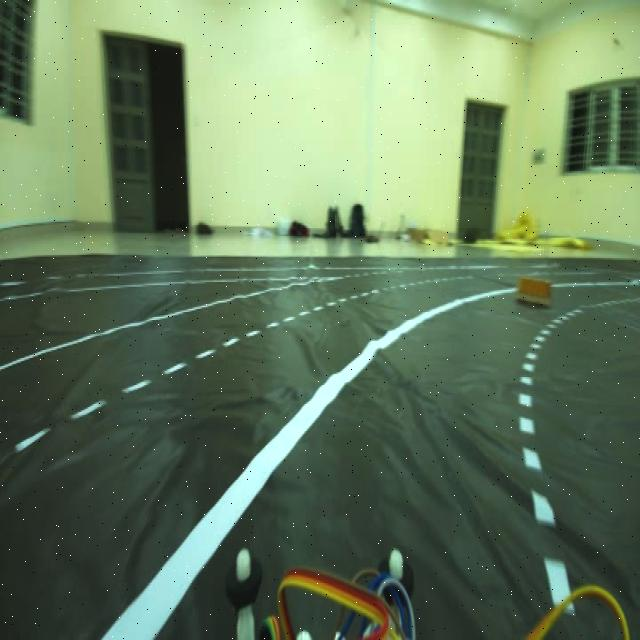roadblock: (515, 268, 557, 315)
